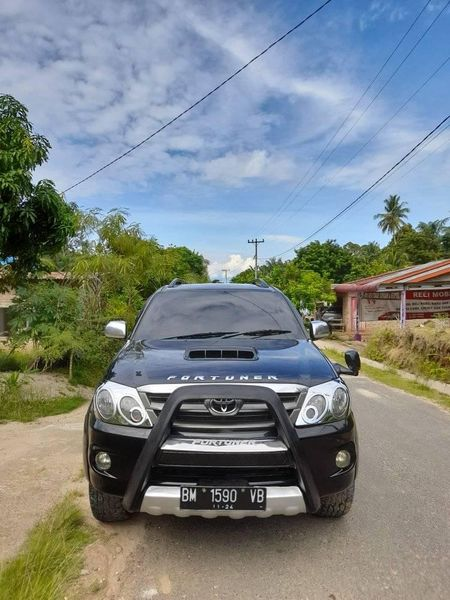plate: (175, 484, 274, 517)
